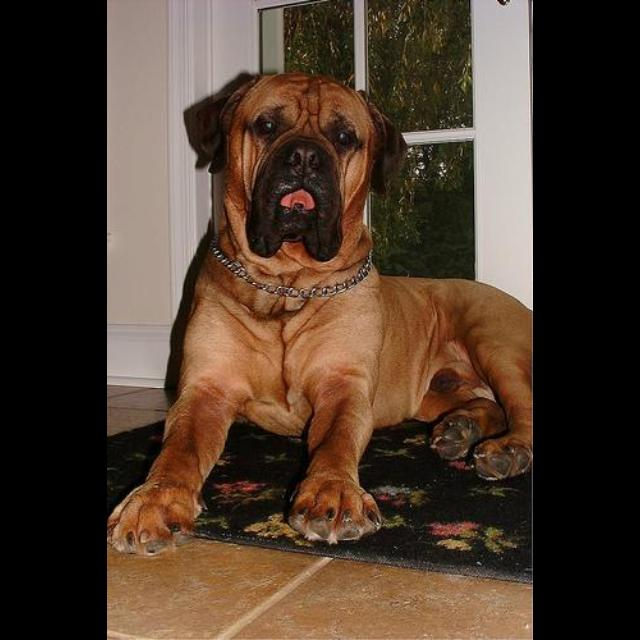bullmastiff: (108, 70, 532, 556)
